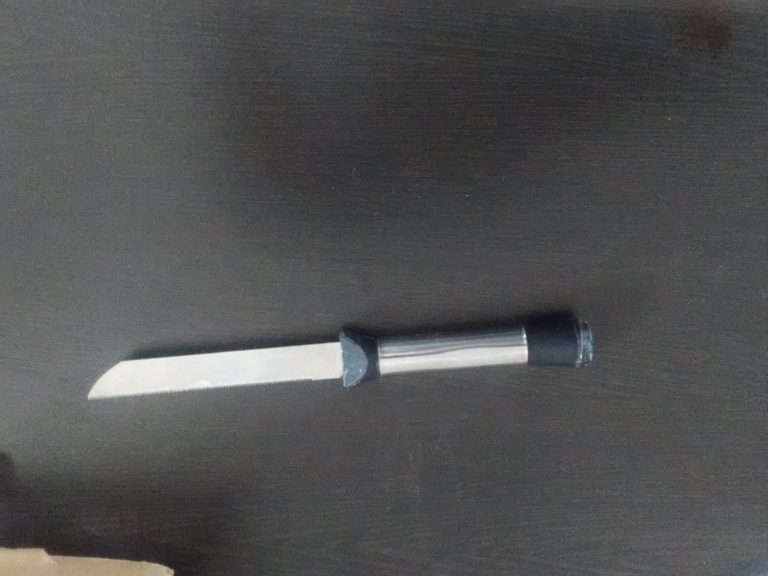knife: (89, 312, 596, 402)
